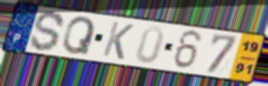0: (134, 25, 166, 65)
6: (172, 30, 204, 71)
7: (207, 32, 240, 75)
K: (100, 20, 136, 62)
Q: (61, 16, 98, 57)
S: (28, 10, 67, 53)
